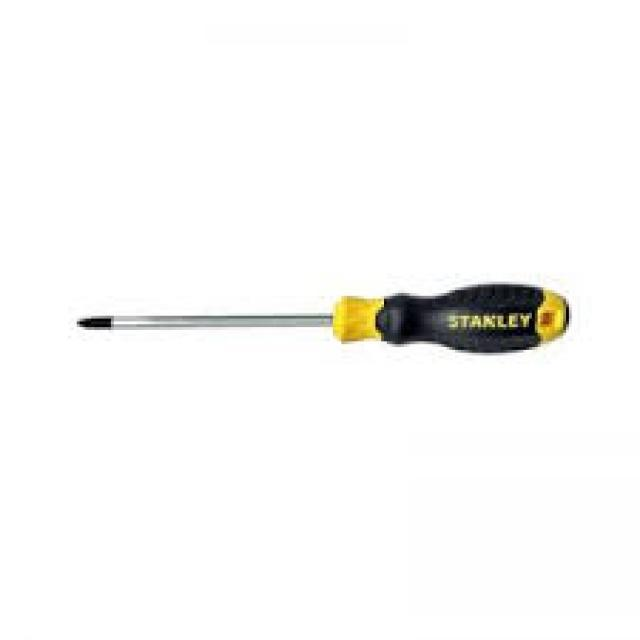screwdriver: (73, 280, 576, 360)
